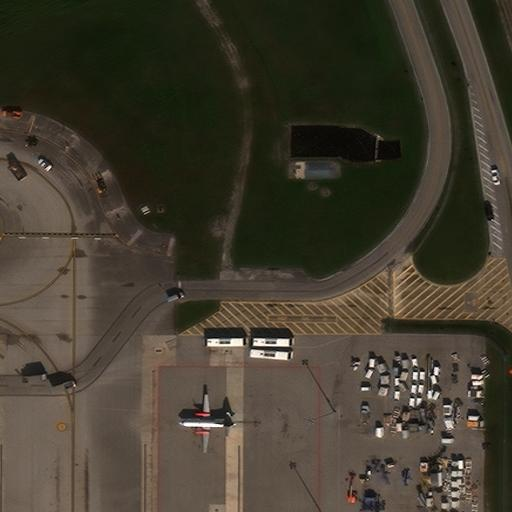Medium Civil Transport: (177, 394, 236, 453)
